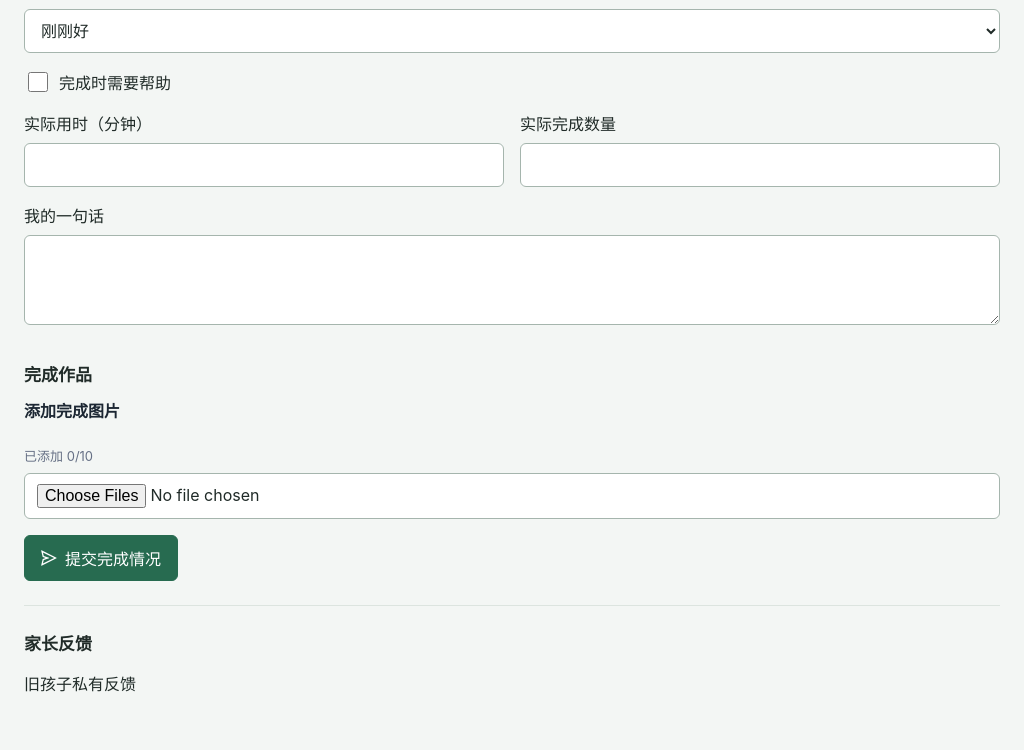
Test case: child task completion › identity change removes old feedback and ignores the late old completion result
(page scrolled)
Click the button "提交完成情况": (101, 558) x1=24 y1=535 x2=178 y2=581
(page scrolled)
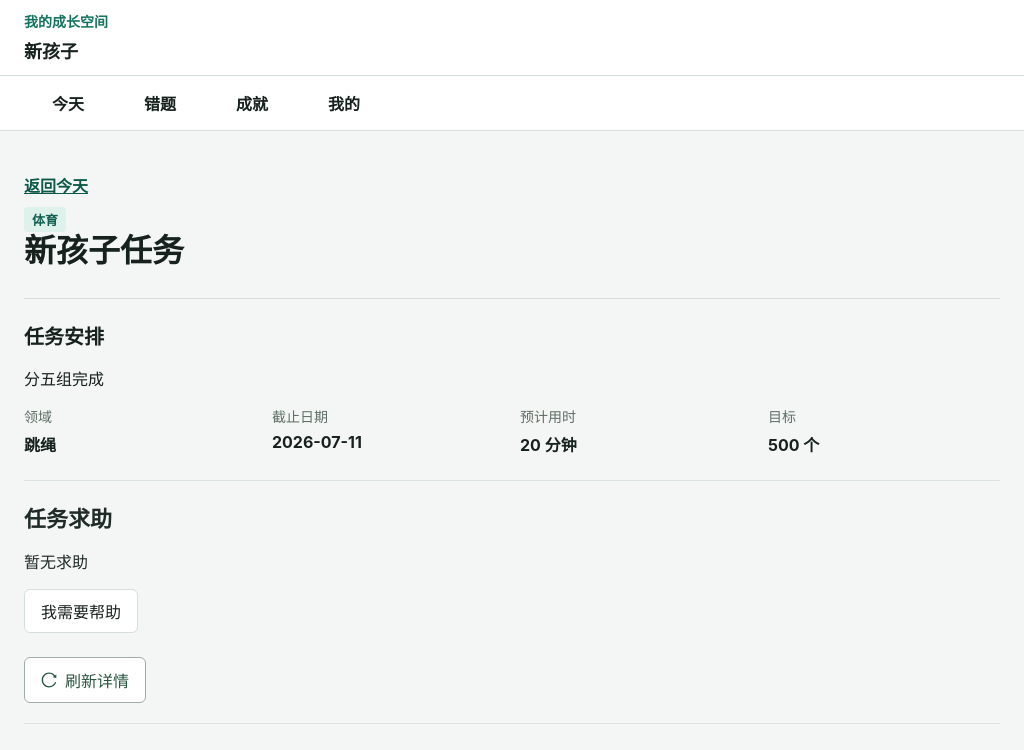
Expected: the text "旧孩子私有反馈" is gone
Expected: the heading "新孩子任务" is shown, x1=24 y1=232 x2=184 y2=270
